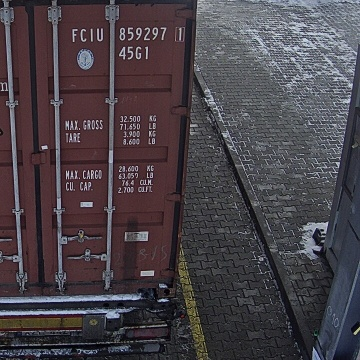serial_id: (72, 27, 183, 42)
